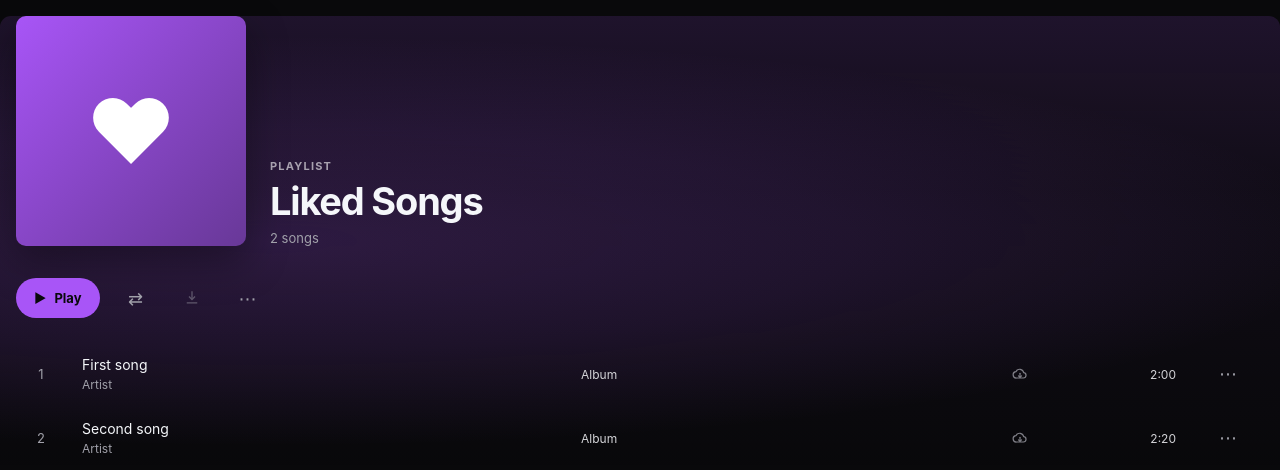
Test: adds all liked songs to the queue from the page options menu
Click the button named "More options". click: [248, 298]
box: x1=228 y1=278 x2=268 y2=318
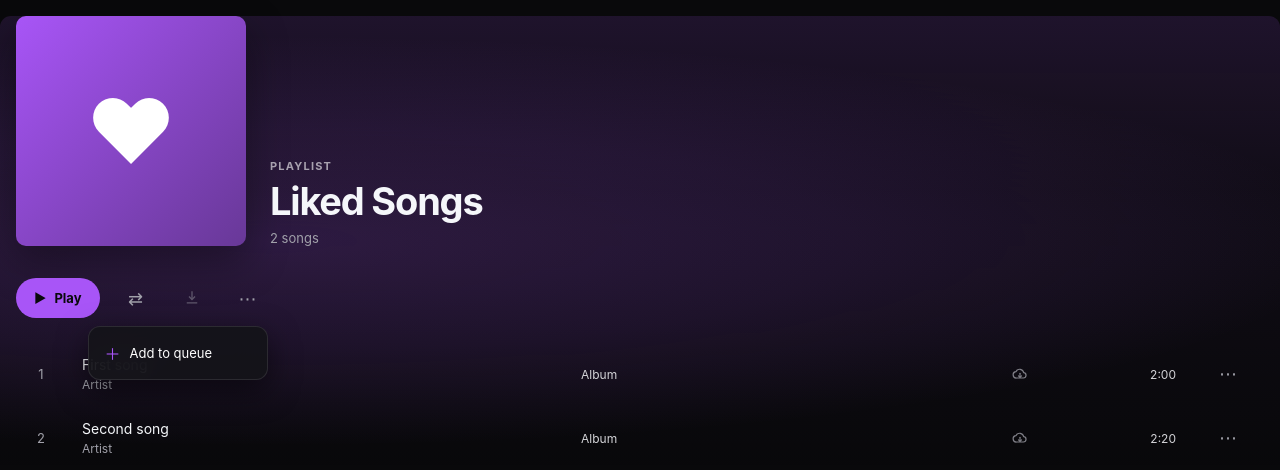
Click the menu item with aria-label "Add 2 tracks to queue". click: [178, 353]
box: x1=94 y1=333 x2=260 y2=373
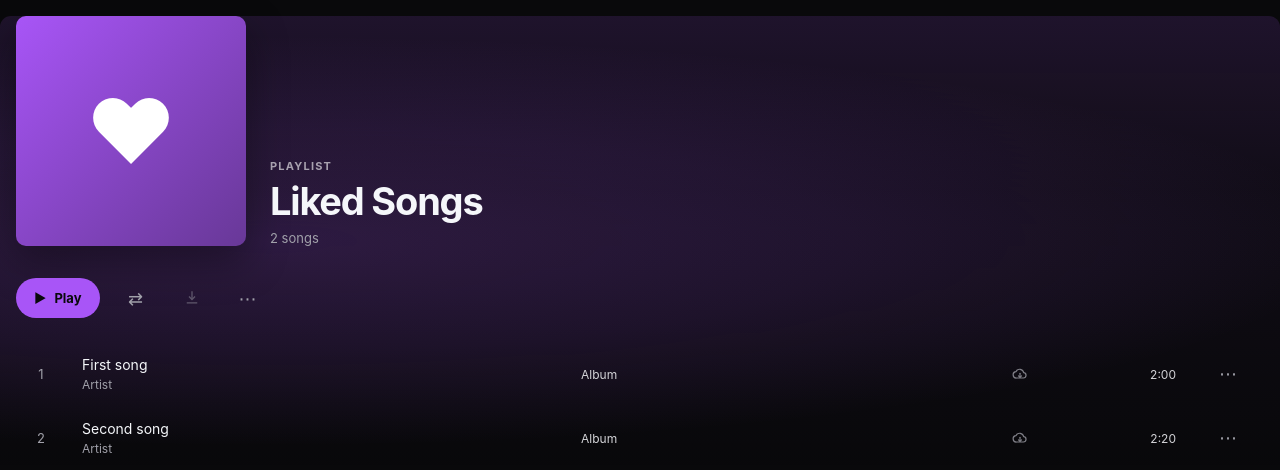
Check: the menu is gone
